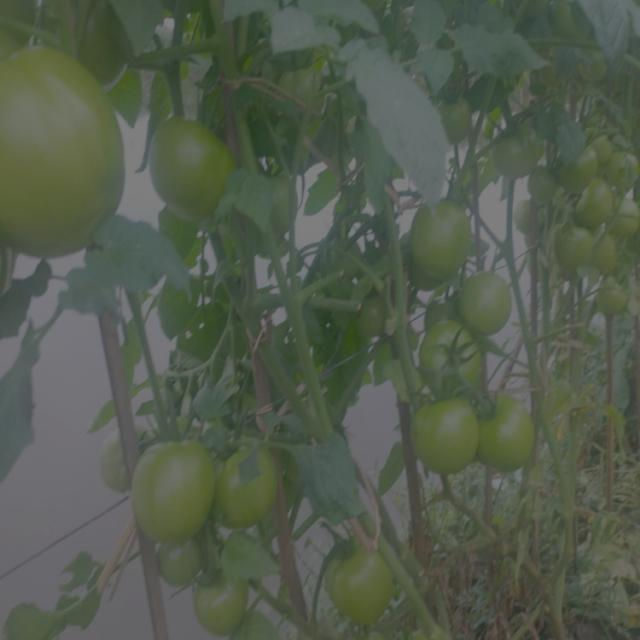tomato: (4, 41, 128, 261), (145, 113, 243, 218), (130, 437, 215, 534), (321, 529, 404, 626), (408, 388, 480, 473), (411, 198, 480, 285), (414, 324, 489, 395), (223, 440, 282, 526), (481, 393, 539, 474), (194, 563, 255, 639), (456, 269, 513, 328), (151, 531, 210, 588), (556, 222, 602, 277), (495, 122, 543, 174), (589, 270, 635, 323), (545, 3, 596, 46), (266, 173, 298, 239), (440, 90, 478, 141), (278, 73, 324, 111), (609, 193, 640, 248), (568, 141, 606, 183), (356, 301, 392, 343), (106, 432, 128, 496), (610, 145, 640, 190), (579, 52, 610, 88), (534, 61, 566, 95)
